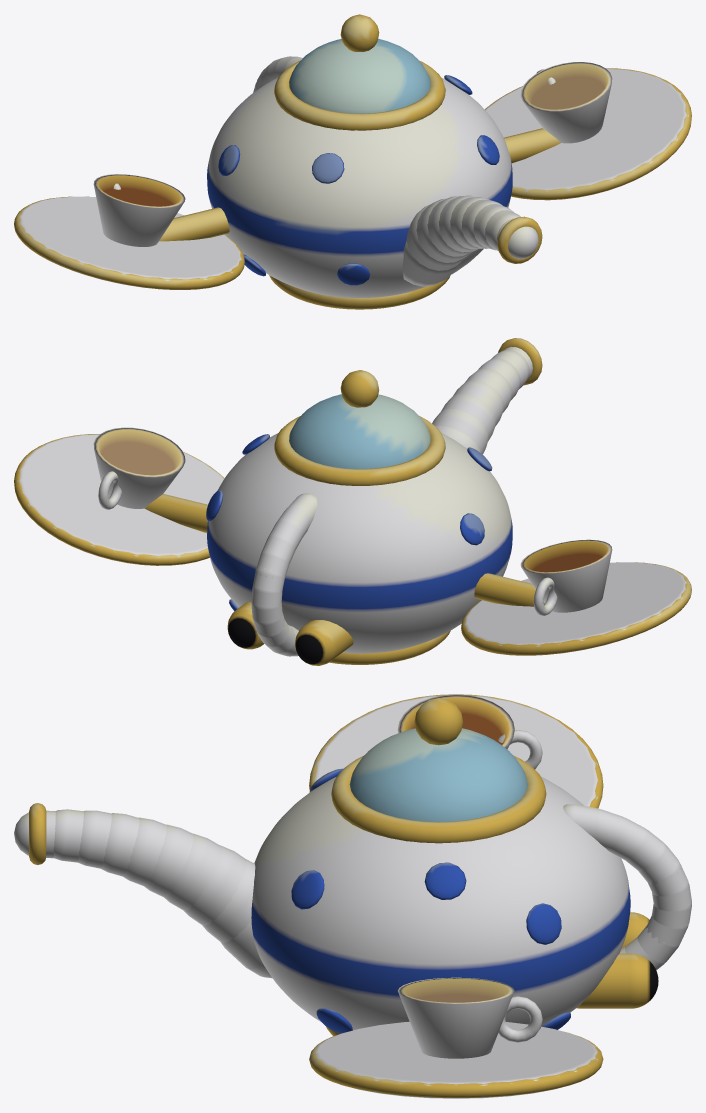
The model's file is teapot-starfighter.obj.
3 renders of one model, top to bottom at view 1: azimuth 30°, elevation 25°; view 2: azimuth 150°, elevation 25°; view 3: azimuth 270°, elevation 25°, orthographic. The views are drawn at different scales.
Parts seen in each view (by area): view 1: starfighter; view 2: starfighter; view 3: starfighter.
Boxes of the visible parts, x1,y1,x2,y2 form: starfighter: (14,14,691,309); starfighter: (14,338,691,665); starfighter: (14,694,691,1098).
Bounding box in the file's own units: 268 × 102 × 194.
